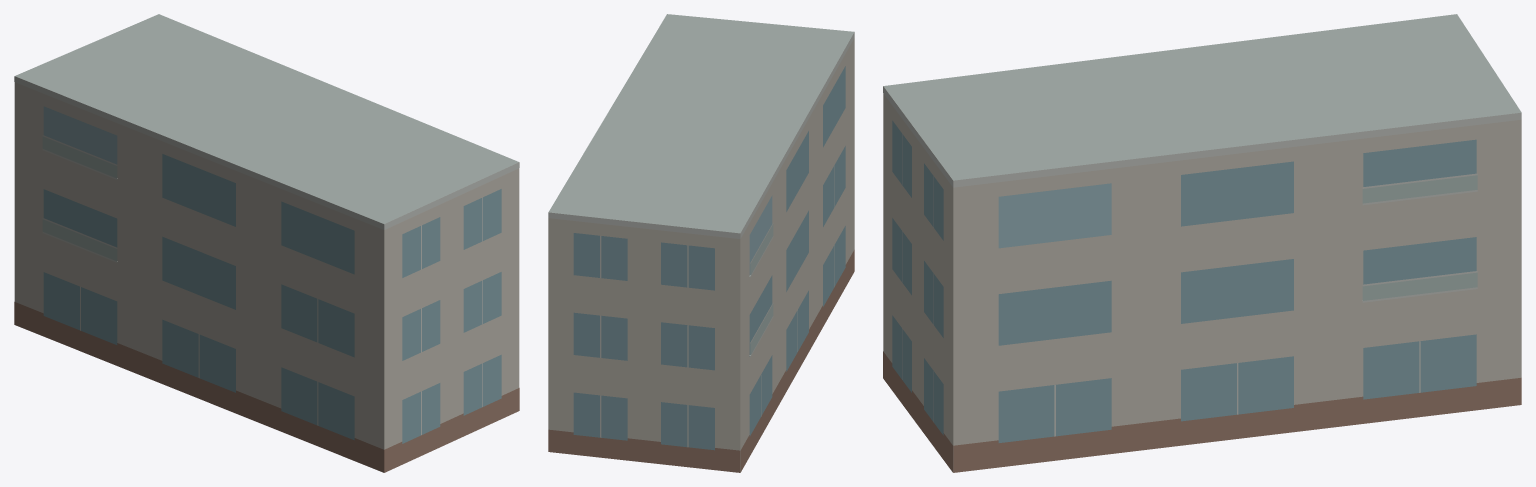
Rendered from survey-upis-32606269.glb.
3 renders of one model, left to right at view 1: azimuth 30°, elevation 25°; view 2: azimuth 150°, elevation 25°; view 3: azimuth 270°, elevation 25°, orthographic. The views are drawn at different scales.
Visible parts, largest first — view 1: survey-upis-32606269.tmp; view 2: survey-upis-32606269.tmp; view 3: survey-upis-32606269.tmp.
Boxes of the visible parts, bbox=[...] form: survey-upis-32606269.tmp: bbox=[14, 14, 519, 472]; survey-upis-32606269.tmp: bbox=[548, 14, 854, 472]; survey-upis-32606269.tmp: bbox=[883, 14, 1521, 472].
Size of the model in its own units: 12.48 by 10.2 by 20.21.
